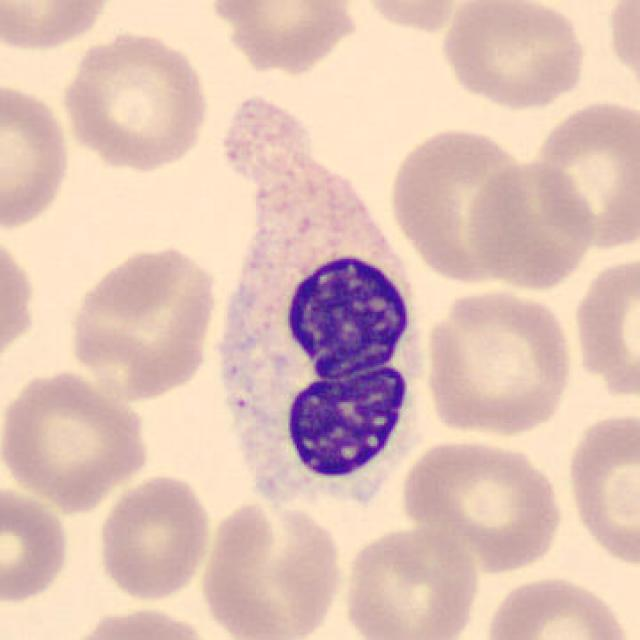Neutrophil: (204, 101, 442, 518)
RBC: (64, 240, 222, 402), (386, 122, 535, 287), (420, 284, 578, 439), (398, 434, 567, 574), (57, 26, 213, 173), (195, 493, 348, 640), (0, 365, 153, 511), (462, 157, 599, 293), (438, 0, 590, 113), (528, 96, 638, 250), (339, 522, 482, 640), (93, 470, 215, 604), (562, 406, 638, 571), (205, 0, 362, 76), (0, 78, 75, 232), (569, 248, 638, 406), (478, 571, 636, 640), (0, 481, 73, 605), (0, 0, 117, 54), (60, 603, 218, 640), (0, 240, 41, 354), (356, 0, 471, 37), (604, 0, 638, 100)
